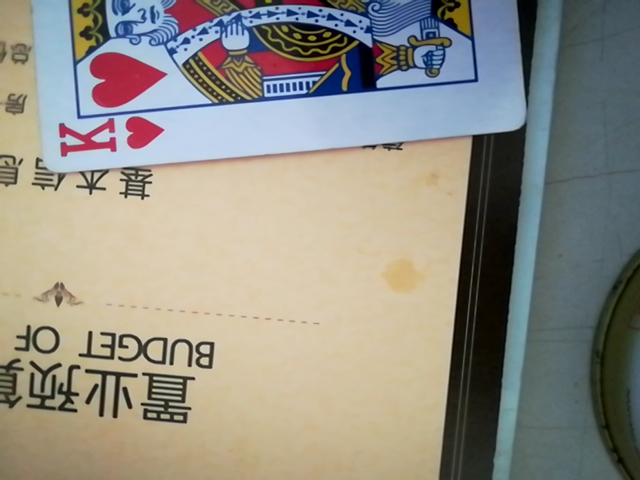hx k: (33, 0, 532, 175)
